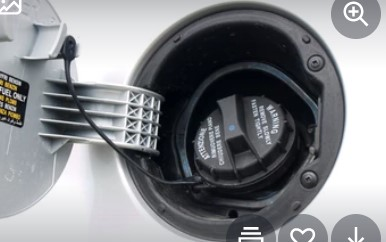open: (108, 4, 350, 240)
